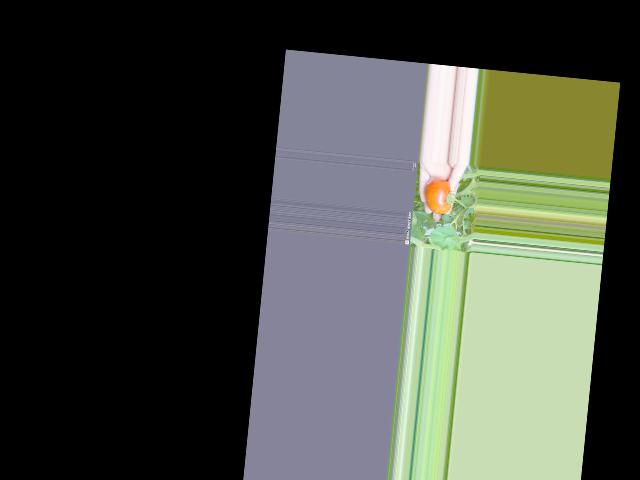tomato: (423, 176, 453, 214)
